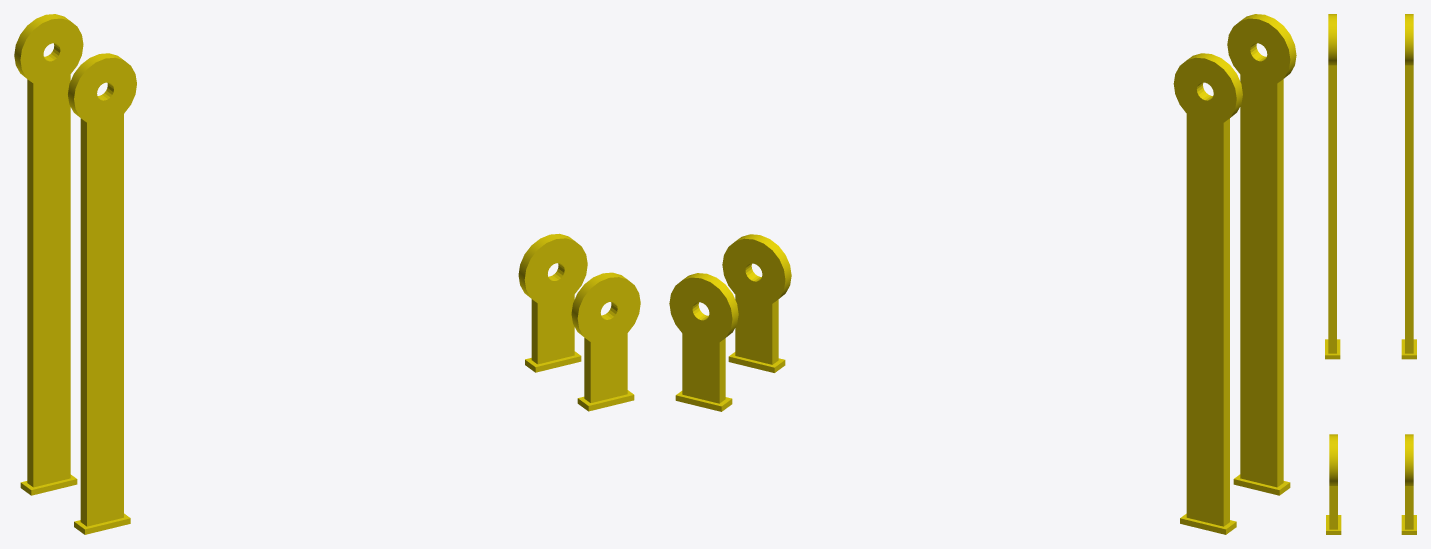
The model's file is Gear Supports.fbx.
3 renders of one model, left to right at view 1: azimuth 30°, elevation 25°; view 2: azimuth 150°, elevation 25°; view 3: azimuth 270°, elevation 25°, orthographic. The views are drawn at different scales.
Visible parts, largest first — view 1: Gear_Stands1; view 2: Gear_Stands1; view 3: Gear_Stands1.
Boxes of the visible parts, x1,y1,x2,y2 form: Gear_Stands1: (14,14,640,534); Gear_Stands1: (669,14,1296,534); Gear_Stands1: (1325,14,1416,534).
Bounding box in the file's own units: 85.21 × 67.35 × 16.73.
